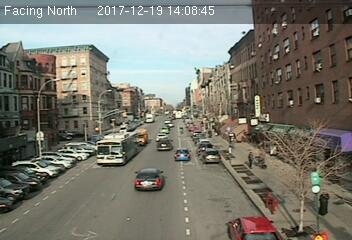bus: (94, 131, 139, 166)
car: (227, 212, 283, 240), (132, 168, 163, 190), (173, 147, 191, 161), (203, 148, 220, 162), (157, 139, 172, 150), (155, 133, 167, 139)
truck: (137, 128, 148, 145)
